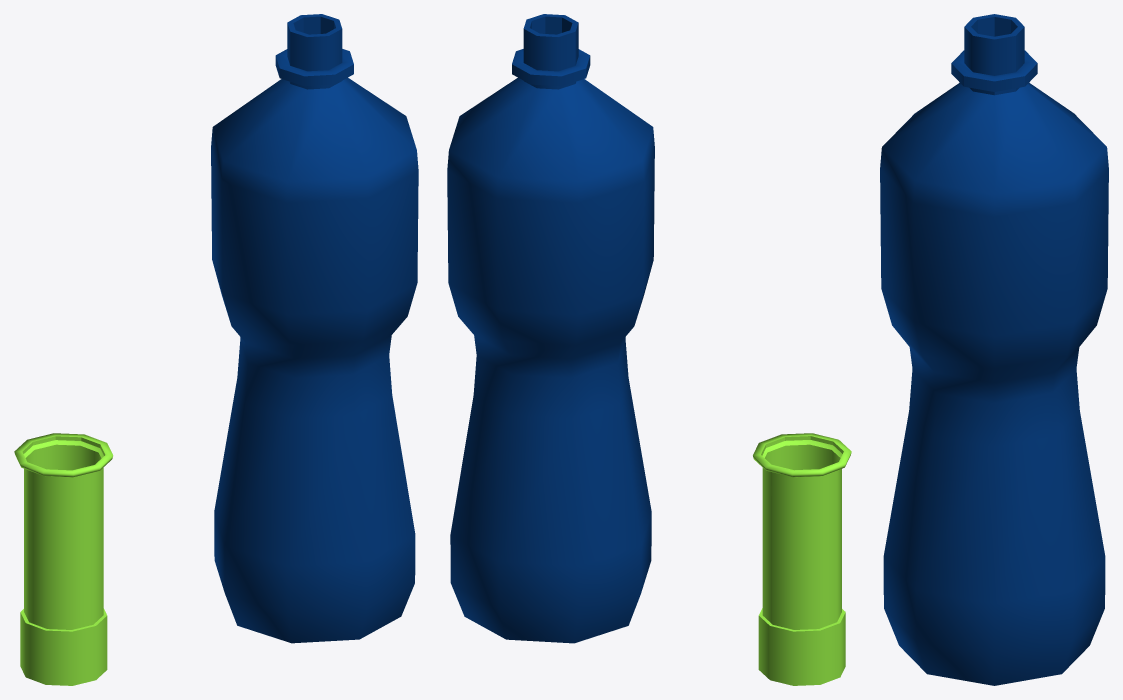
File: Agua.FBX
3 renders of one model, left to right at view 1: azimuth 30°, elevation 25°; view 2: azimuth 150°, elevation 25°; view 3: azimuth 270°, elevation 25°, orthographic. The views are drawn at different scales.
Parts seen in each view (by area): view 1: agua, pega_bolhas; view 2: agua, pega_bolhas; view 3: agua.
Boxes of the visible parts, <box> form: agua: <box>211,14,418,643</box>; pega_bolhas: <box>14,433,113,685</box>; agua: <box>447,14,654,643</box>; pega_bolhas: <box>753,433,851,685</box>; agua: <box>880,14,1108,685</box>.
Size of the model in its own units: 1.54 by 0.7417 by 2.21.
